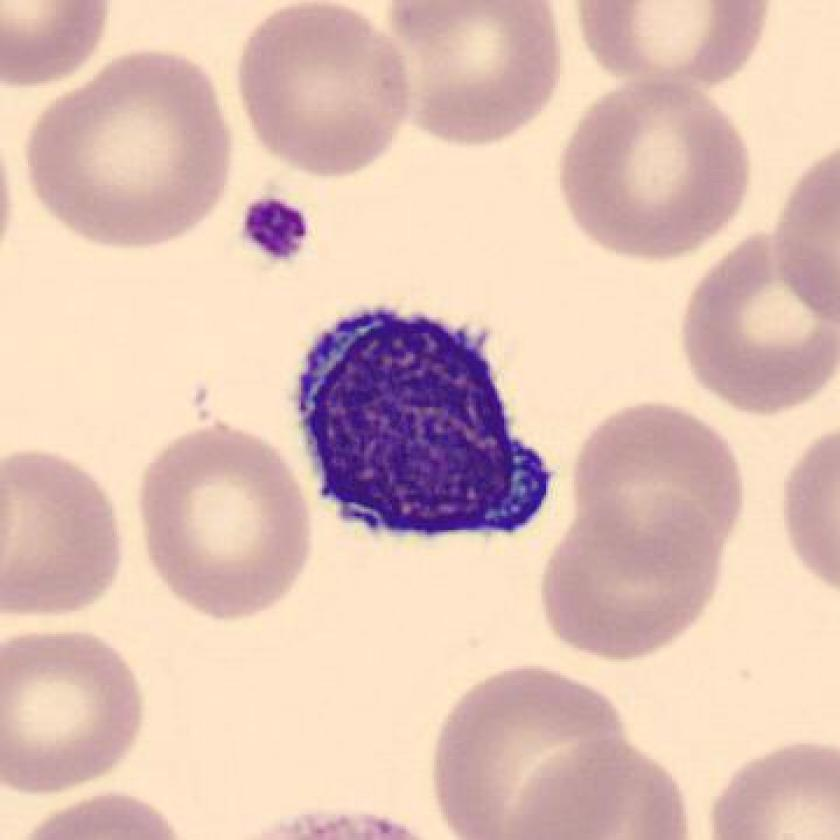lymphocyte: (269, 293, 566, 566)
